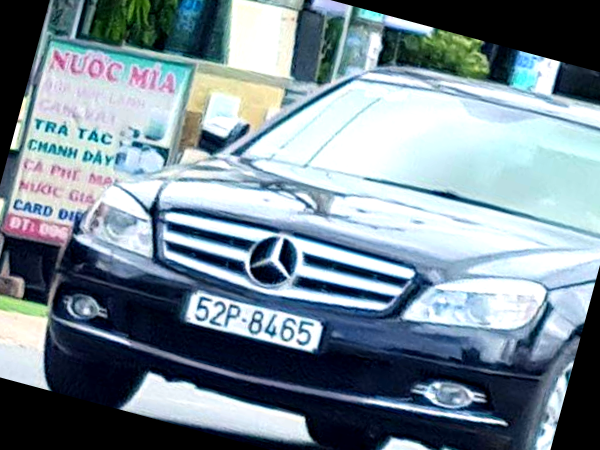lisence: (184, 289, 325, 352)
